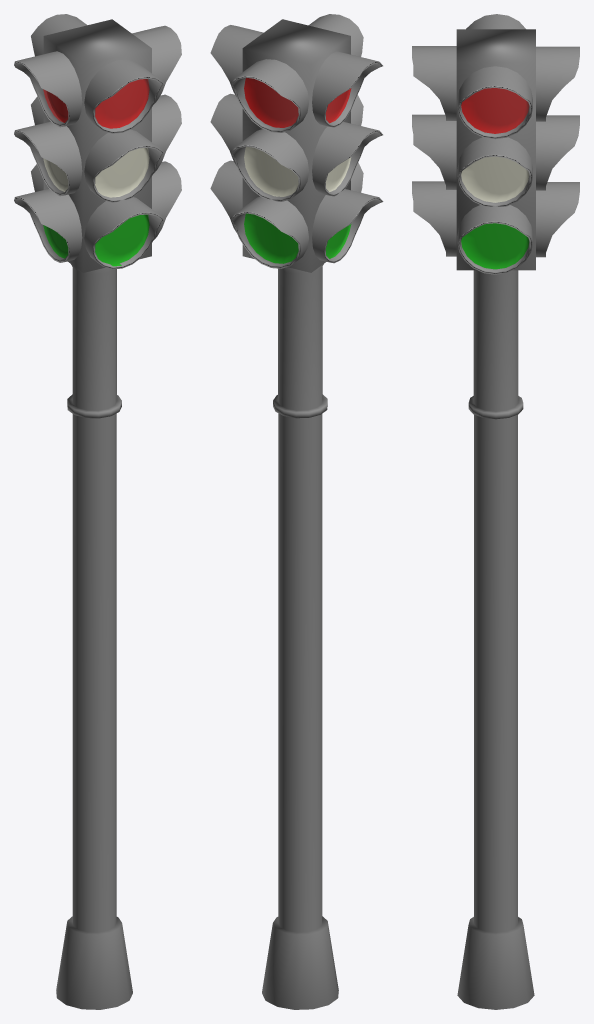
The model's file is trafficLights.fbx.
3 views of the same model, side by side, from view 1: azimuth 30°, elevation 25°; view 2: azimuth 150°, elevation 25°; view 3: azimuth 270°, elevation 25° (orthographic).
Visible parts, largest first — view 1: polySurface10; view 2: polySurface10; view 3: polySurface10.
Boxes of the visible parts, left/top/right/bottom form: polySurface10: left=14, top=14, right=181, bottom=1009; polySurface10: left=210, top=14, right=383, bottom=1009; polySurface10: left=412, top=14, right=579, bottom=1009.
Size of the model in its own units: 0.0551 by 0.3439 by 0.0551.
